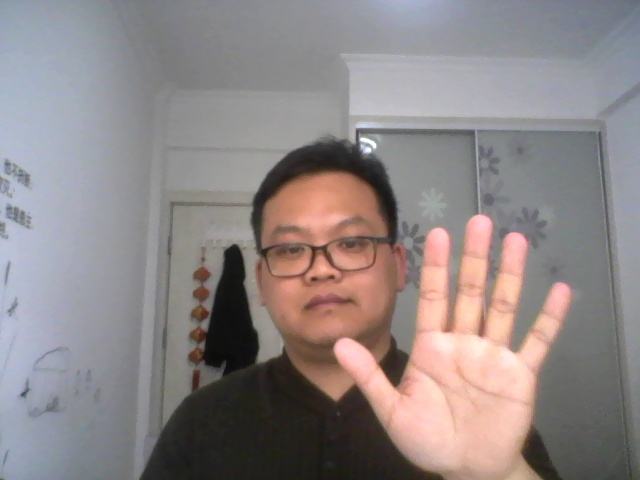Hello: (328, 208, 574, 477)
